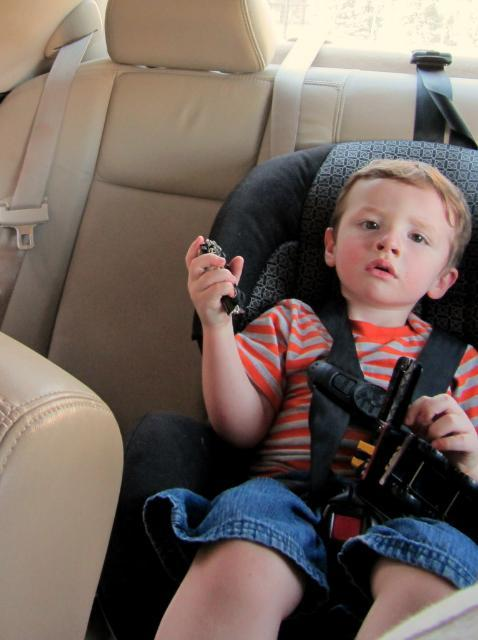SafeDriving: (350, 208, 388, 240), (400, 220, 436, 252)
Seatbelt: (0, 32, 92, 252), (265, 29, 331, 164)
